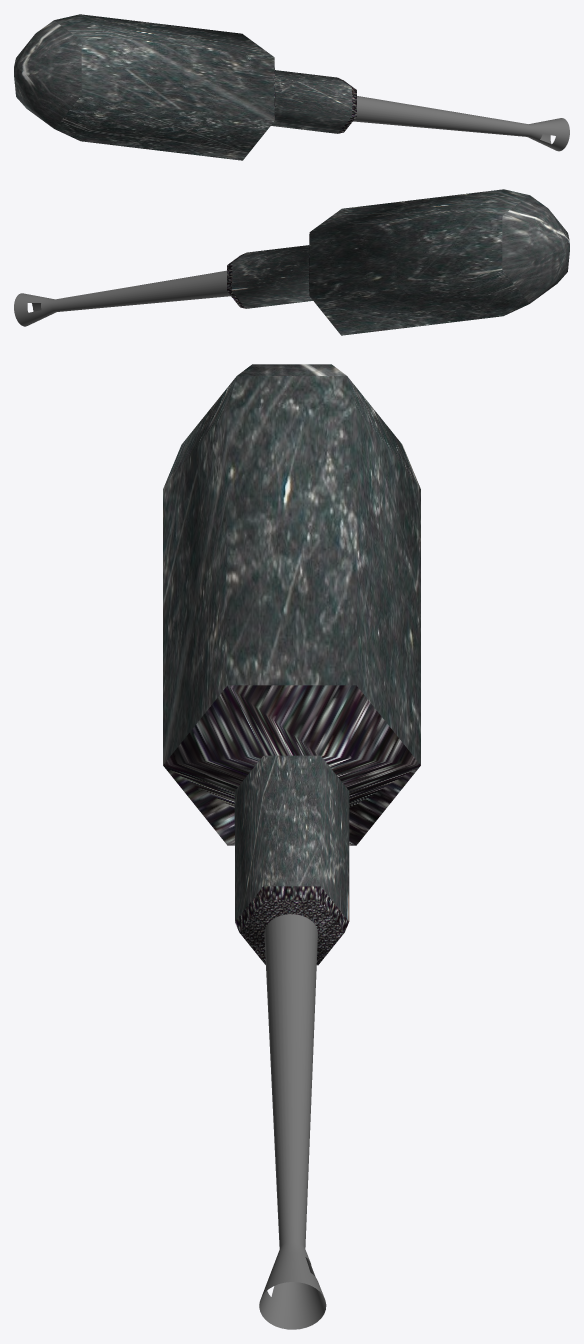
The model's file is rarm.gltf.glb.
3 renders of one model, top to bottom at view 1: azimuth 30°, elevation 25°; view 2: azimuth 150°, elevation 25°; view 3: azimuth 270°, elevation 25°, orthographic. The views are drawn at different scales.
Parts seen in each view (by area): view 1: arms, 円柱; view 2: arms, 円柱; view 3: arms, 円柱.
Boxes of the visible parts, left/top/right/bottom form: arms: left=14, top=14, right=356, bottom=160; 円柱: left=353, top=96, right=569, bottom=151; arms: left=227, top=189, right=569, bottom=335; 円柱: left=14, top=270, right=230, bottom=326; arms: left=163, top=364, right=420, bottom=965; 円柱: left=259, top=914, right=326, bottom=1329.
Bounding box in the file's own units: 2.95 × 1.23 × 0.6001.
Materials: 3 (2 with a texture image).
